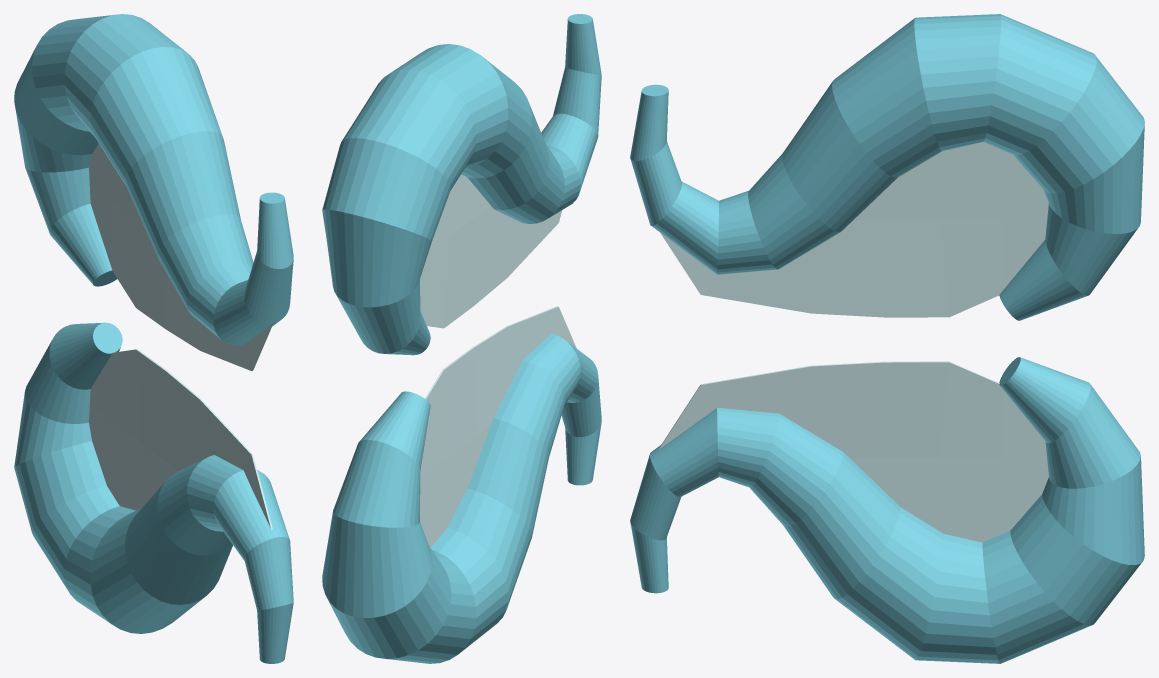
The model's file is YisusWings.fbx.
3 renders of one model, left to right at view 1: azimuth 30°, elevation 25°; view 2: azimuth 150°, elevation 25°; view 3: azimuth 270°, elevation 25°, orthographic. The views are drawn at different scales.
Parts seen in each view (by area): view 1: Cylinder; view 2: Cylinder; view 3: Cylinder.
Part boxes in pixels (box(x1,y1,x2,y2)): Cylinder: box(14, 14, 293, 663); Cylinder: box(322, 14, 601, 663); Cylinder: box(630, 14, 1144, 663).
Size of the model in its own units: 161 by 829 by 606.
